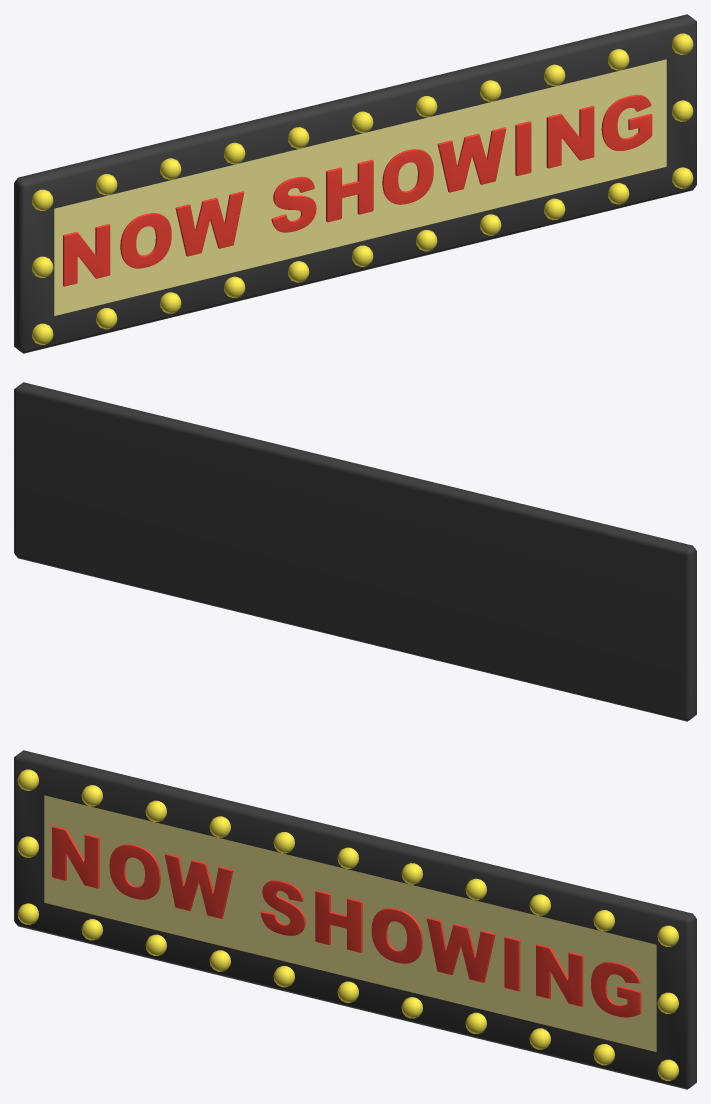
File: Public_4_Cinema_Sign_1.glb
The picture shows the model from 3 angles, top to bottom: view 1: azimuth 30°, elevation 25°; view 2: azimuth 150°, elevation 25°; view 3: azimuth 330°, elevation 25°; orthographic projection.
Visible parts, largest first — view 1: Public_4_Cinema_Sign_1; view 2: Public_4_Cinema_Sign_1; view 3: Public_4_Cinema_Sign_1.
Part boxes in pixels (x1,y1,x2,y2): Public_4_Cinema_Sign_1: [14, 14, 696, 353]; Public_4_Cinema_Sign_1: [14, 382, 696, 721]; Public_4_Cinema_Sign_1: [14, 750, 696, 1089].
Size of the model in its own units: 6.08 by 1.48 by 0.2717.
1 material, 1 textured.
